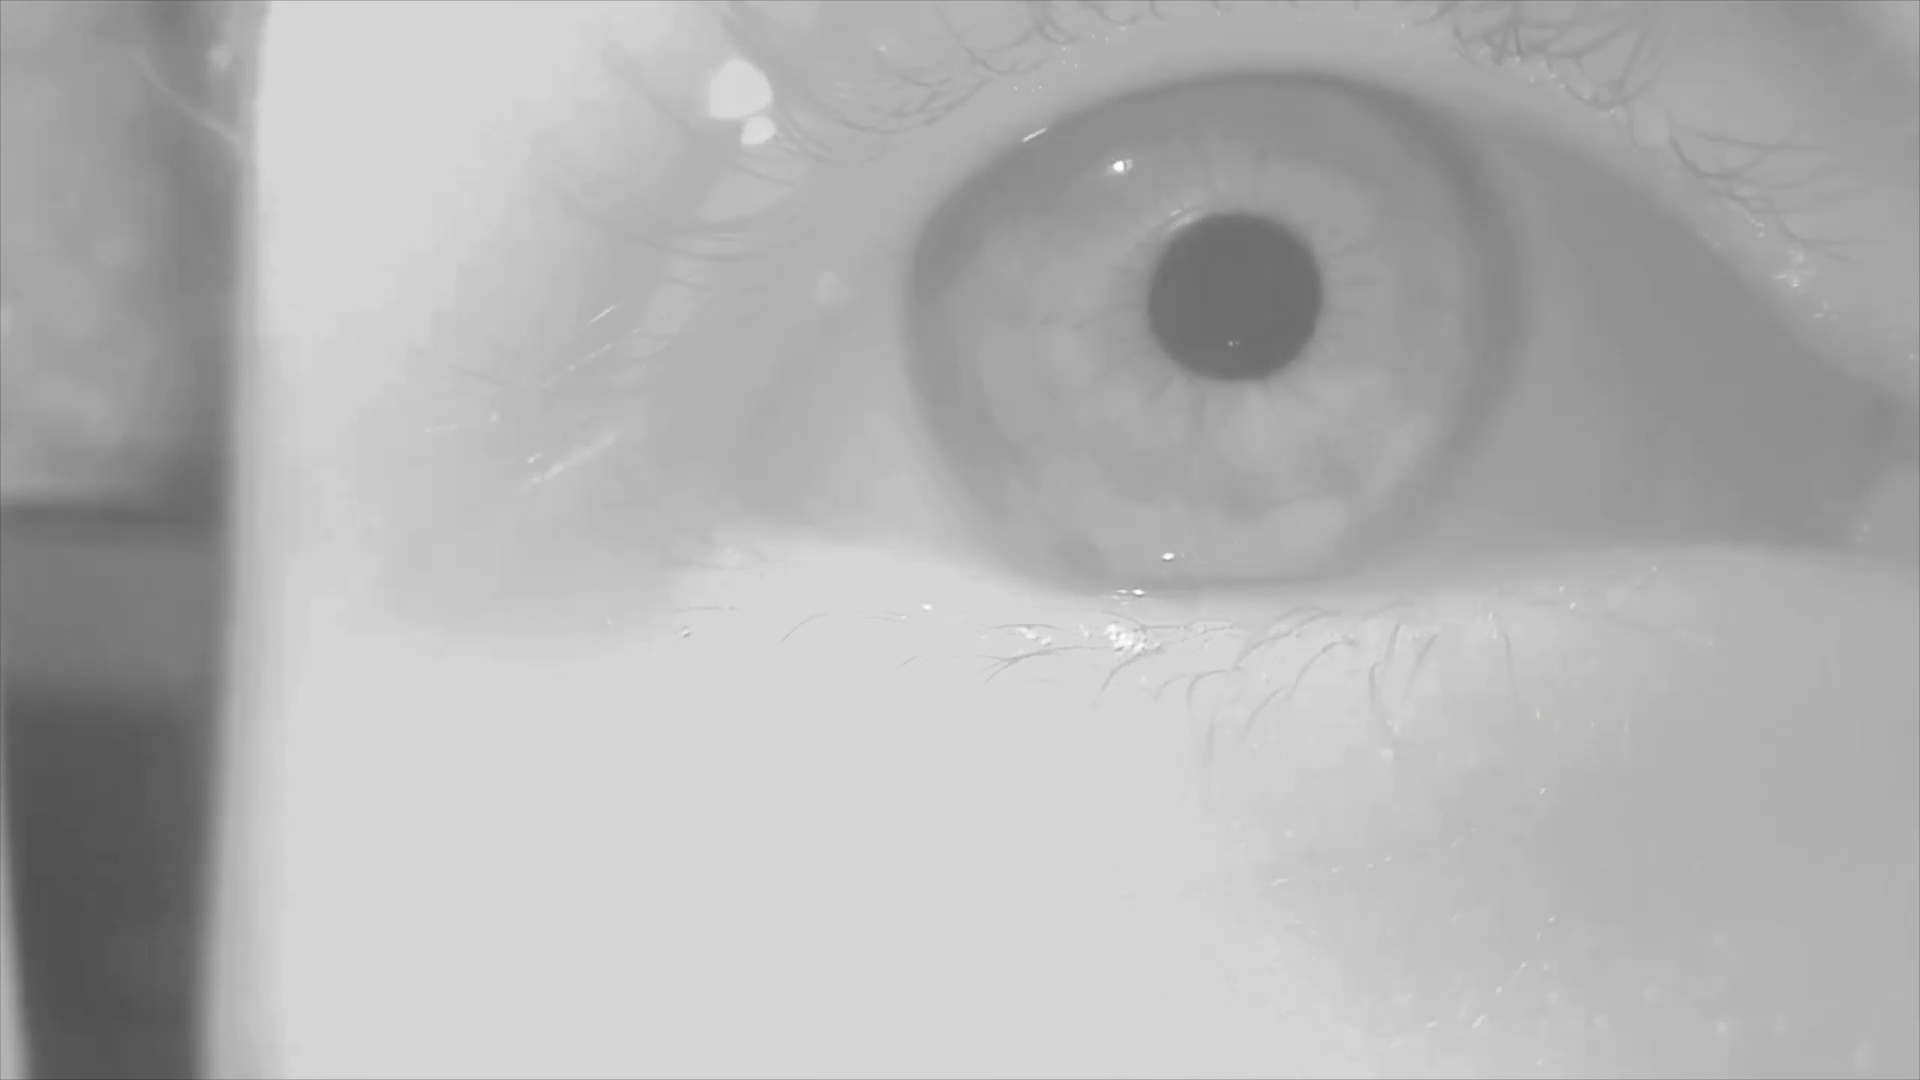pupil: (1153, 213, 1324, 383)
